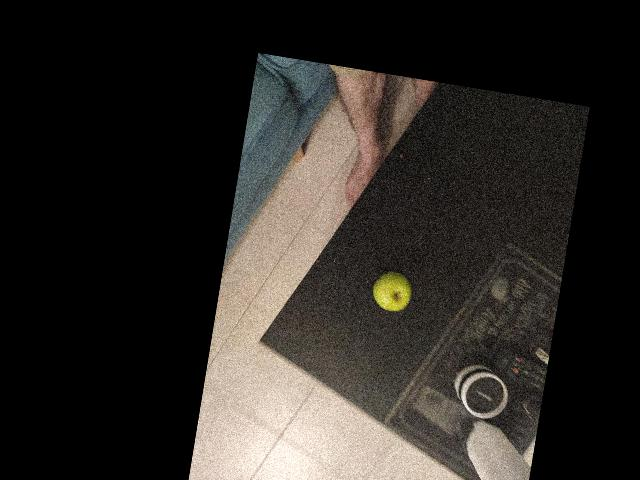apple: (275, 303, 341, 370)
